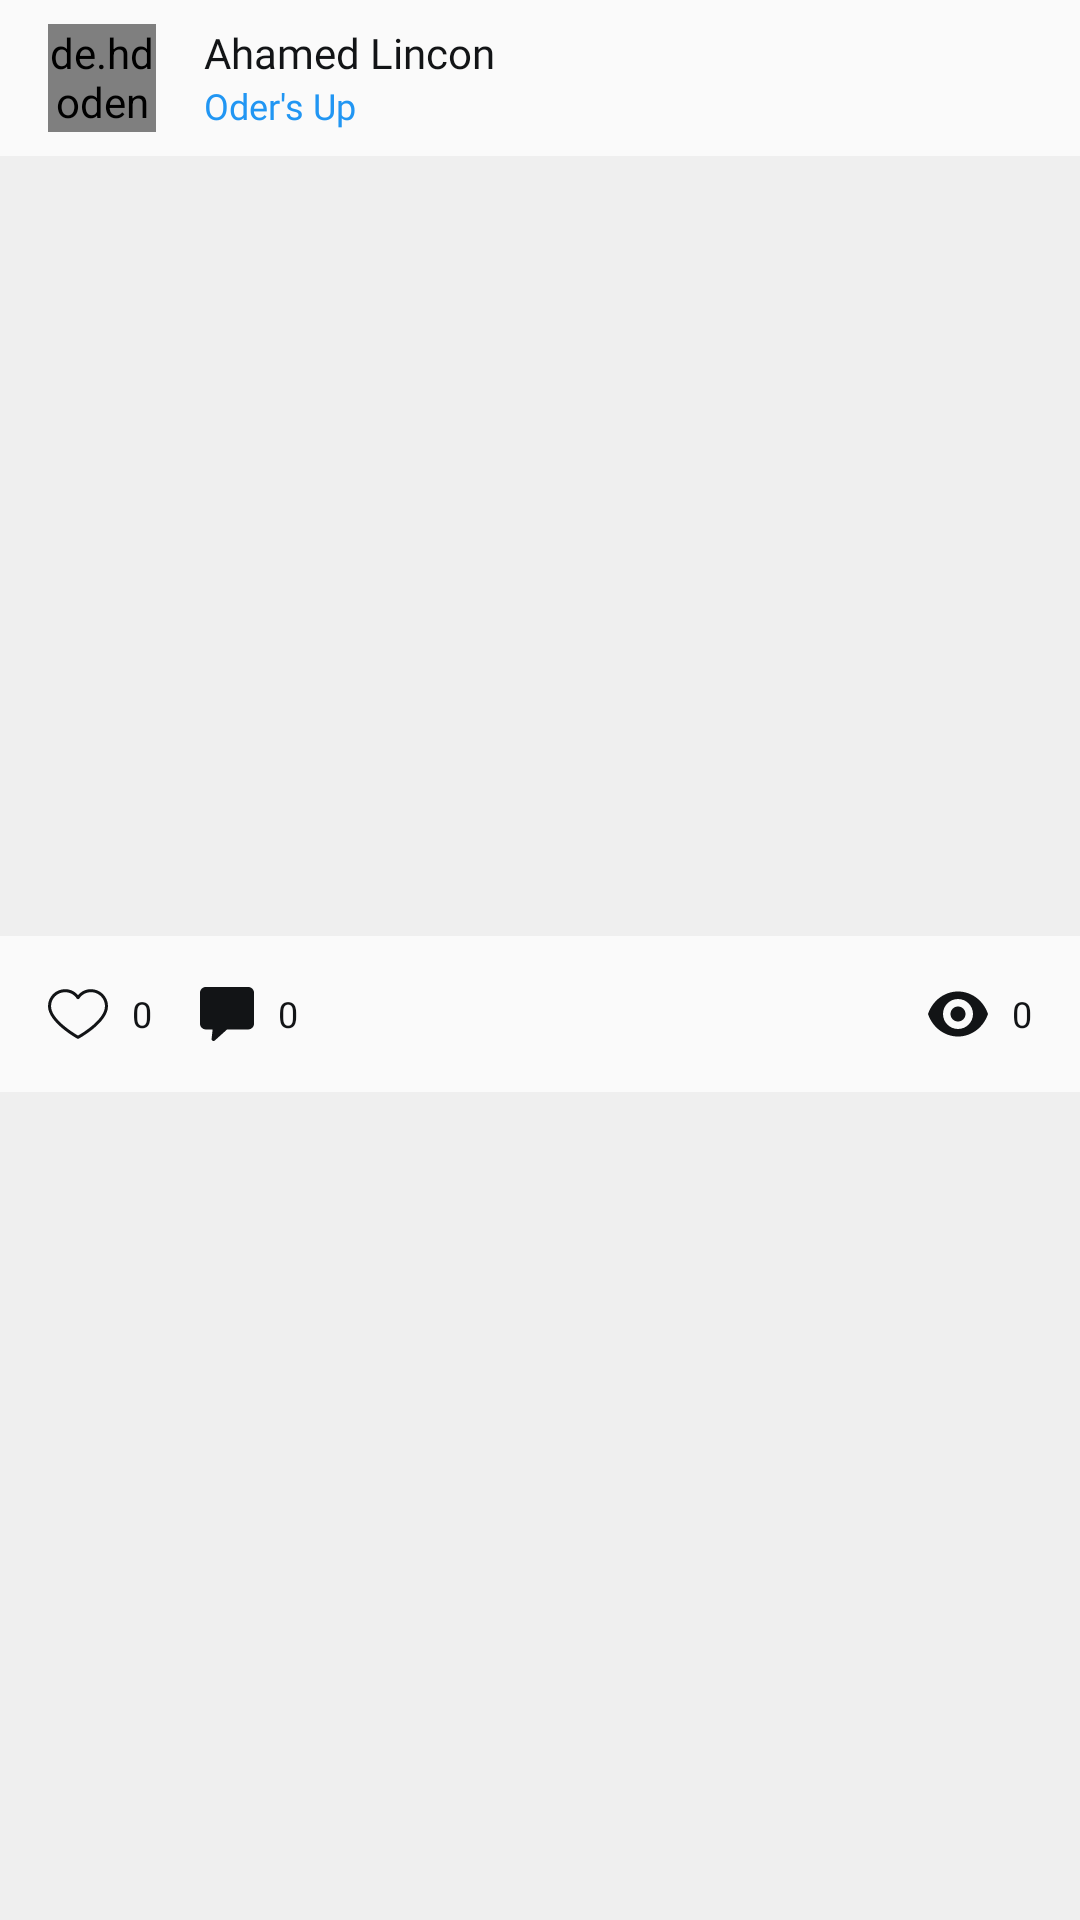

Named icons in this screenshot (1080 x 1920) and their centers, (x=x, y=y):
comment: (x=227, y=1014)
heart: (x=78, y=1014)
view: (x=958, y=1014)
